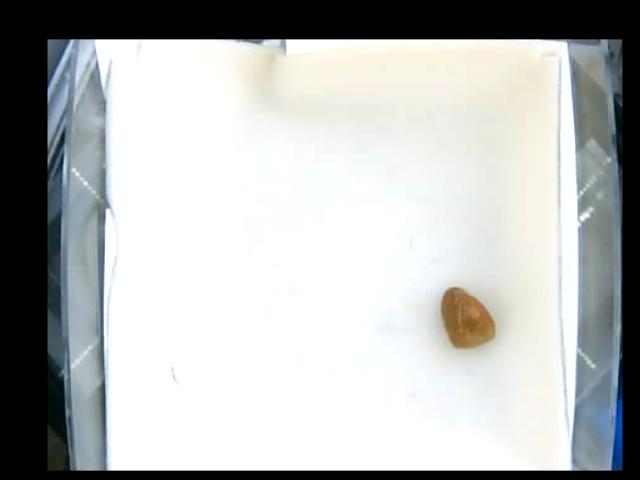Pebble: (441, 284, 495, 351)
